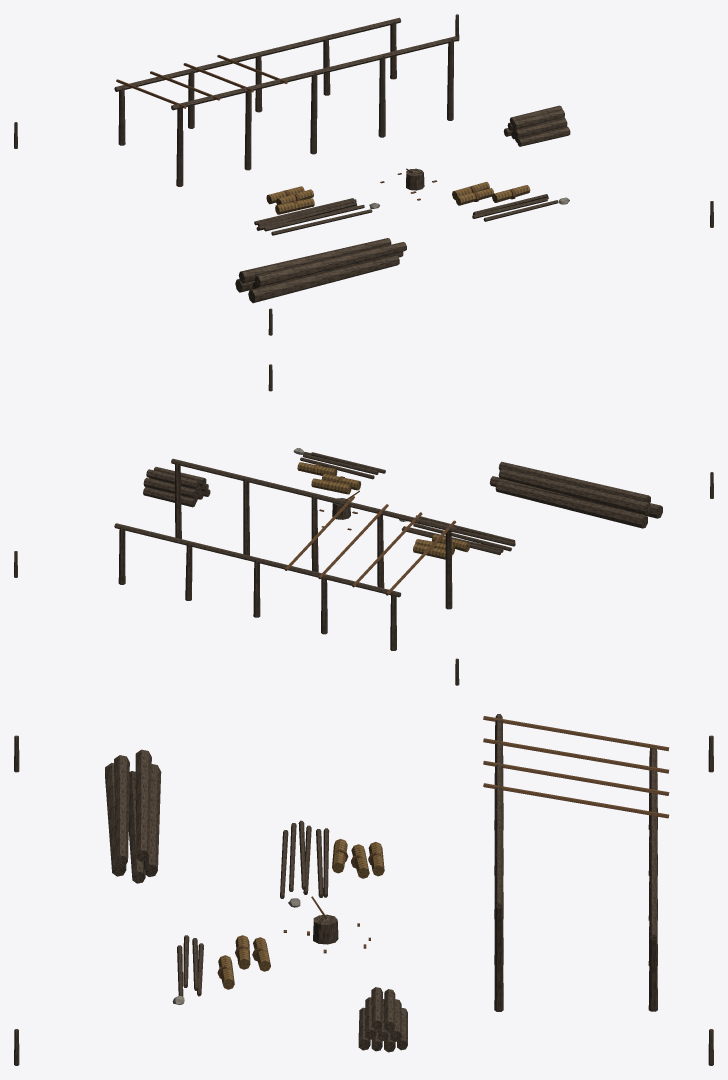
Rendered from cantiere_legnaia.glb.
The picture shows the model from 3 angles, top to bottom: view 1: azimuth 30°, elevation 25°; view 2: azimuth 150°, elevation 25°; view 3: azimuth 270°, elevation 25°; orthographic projection. The views are drawn at different scales.
Visible parts, largest first — view 1: cantiere_legnaia; view 2: cantiere_legnaia; view 3: cantiere_legnaia.
Part boxes in pixels (x1,y1,x2,y2): cantiere_legnaia: (14,14,713,335); cantiere_legnaia: (14,364,713,685); cantiere_legnaia: (14,714,713,1065).
Size of the model in its own units: 18.12 by 3.26 by 18.14.
Materials: 4 (4 with a texture image).
